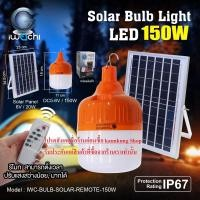Light_bulb: (72, 63, 145, 174), (45, 50, 75, 93)
